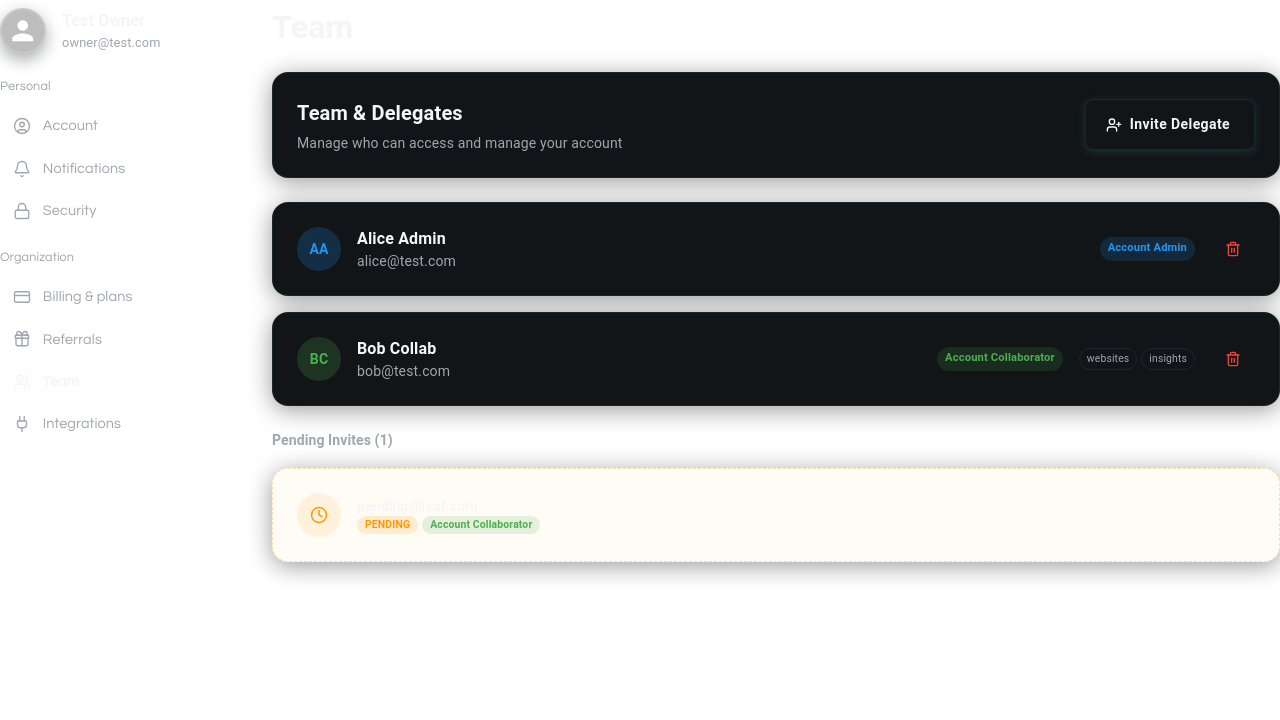
Scenario: AccountDelegateTeamTab › invite modal closes on cancel
The image size is (1280, 720).
Expected: the text "Alice Admin" is shown, [357, 228, 446, 248]
Click the button "Invite Delegate".
click(1170, 125)  # box [1085, 99, 1255, 150]
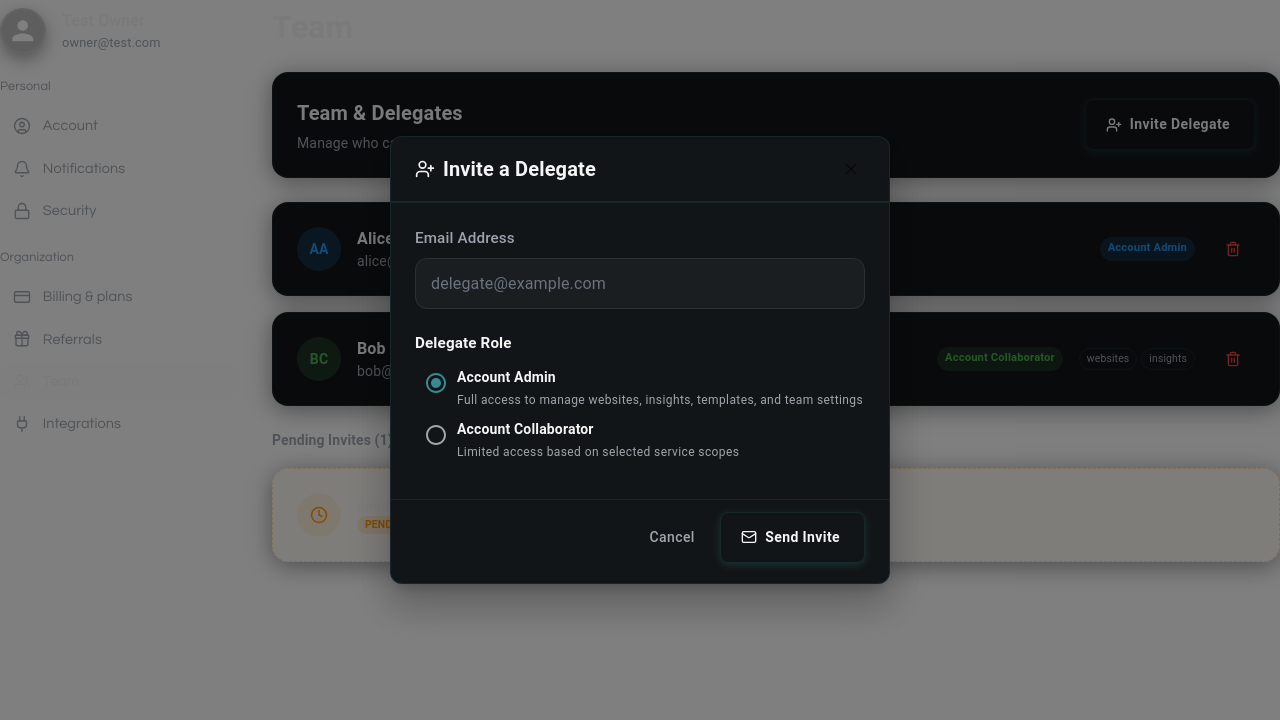
Expected: the heading "Invite a Delegate" is shown, [443, 153, 596, 185]
Click the button "Cancel".
click(672, 537)  # box [640, 515, 704, 559]
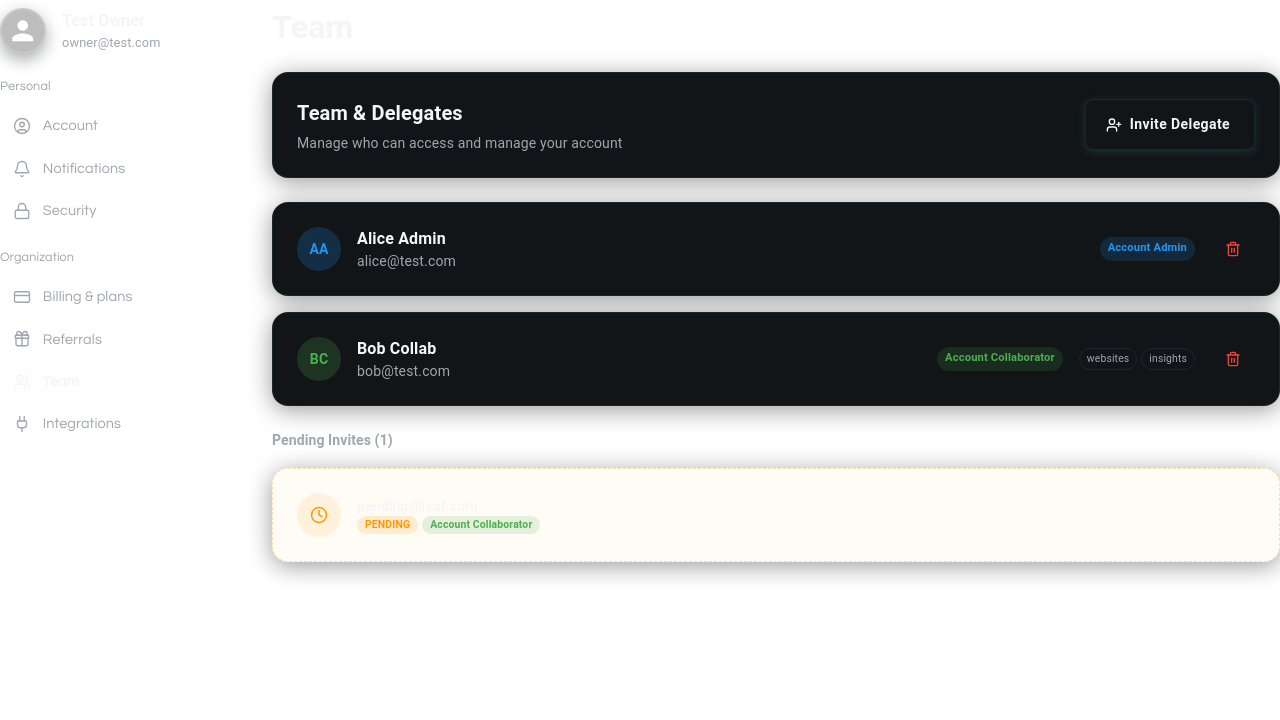
Expected: the heading "Invite a Delegate" is gone
